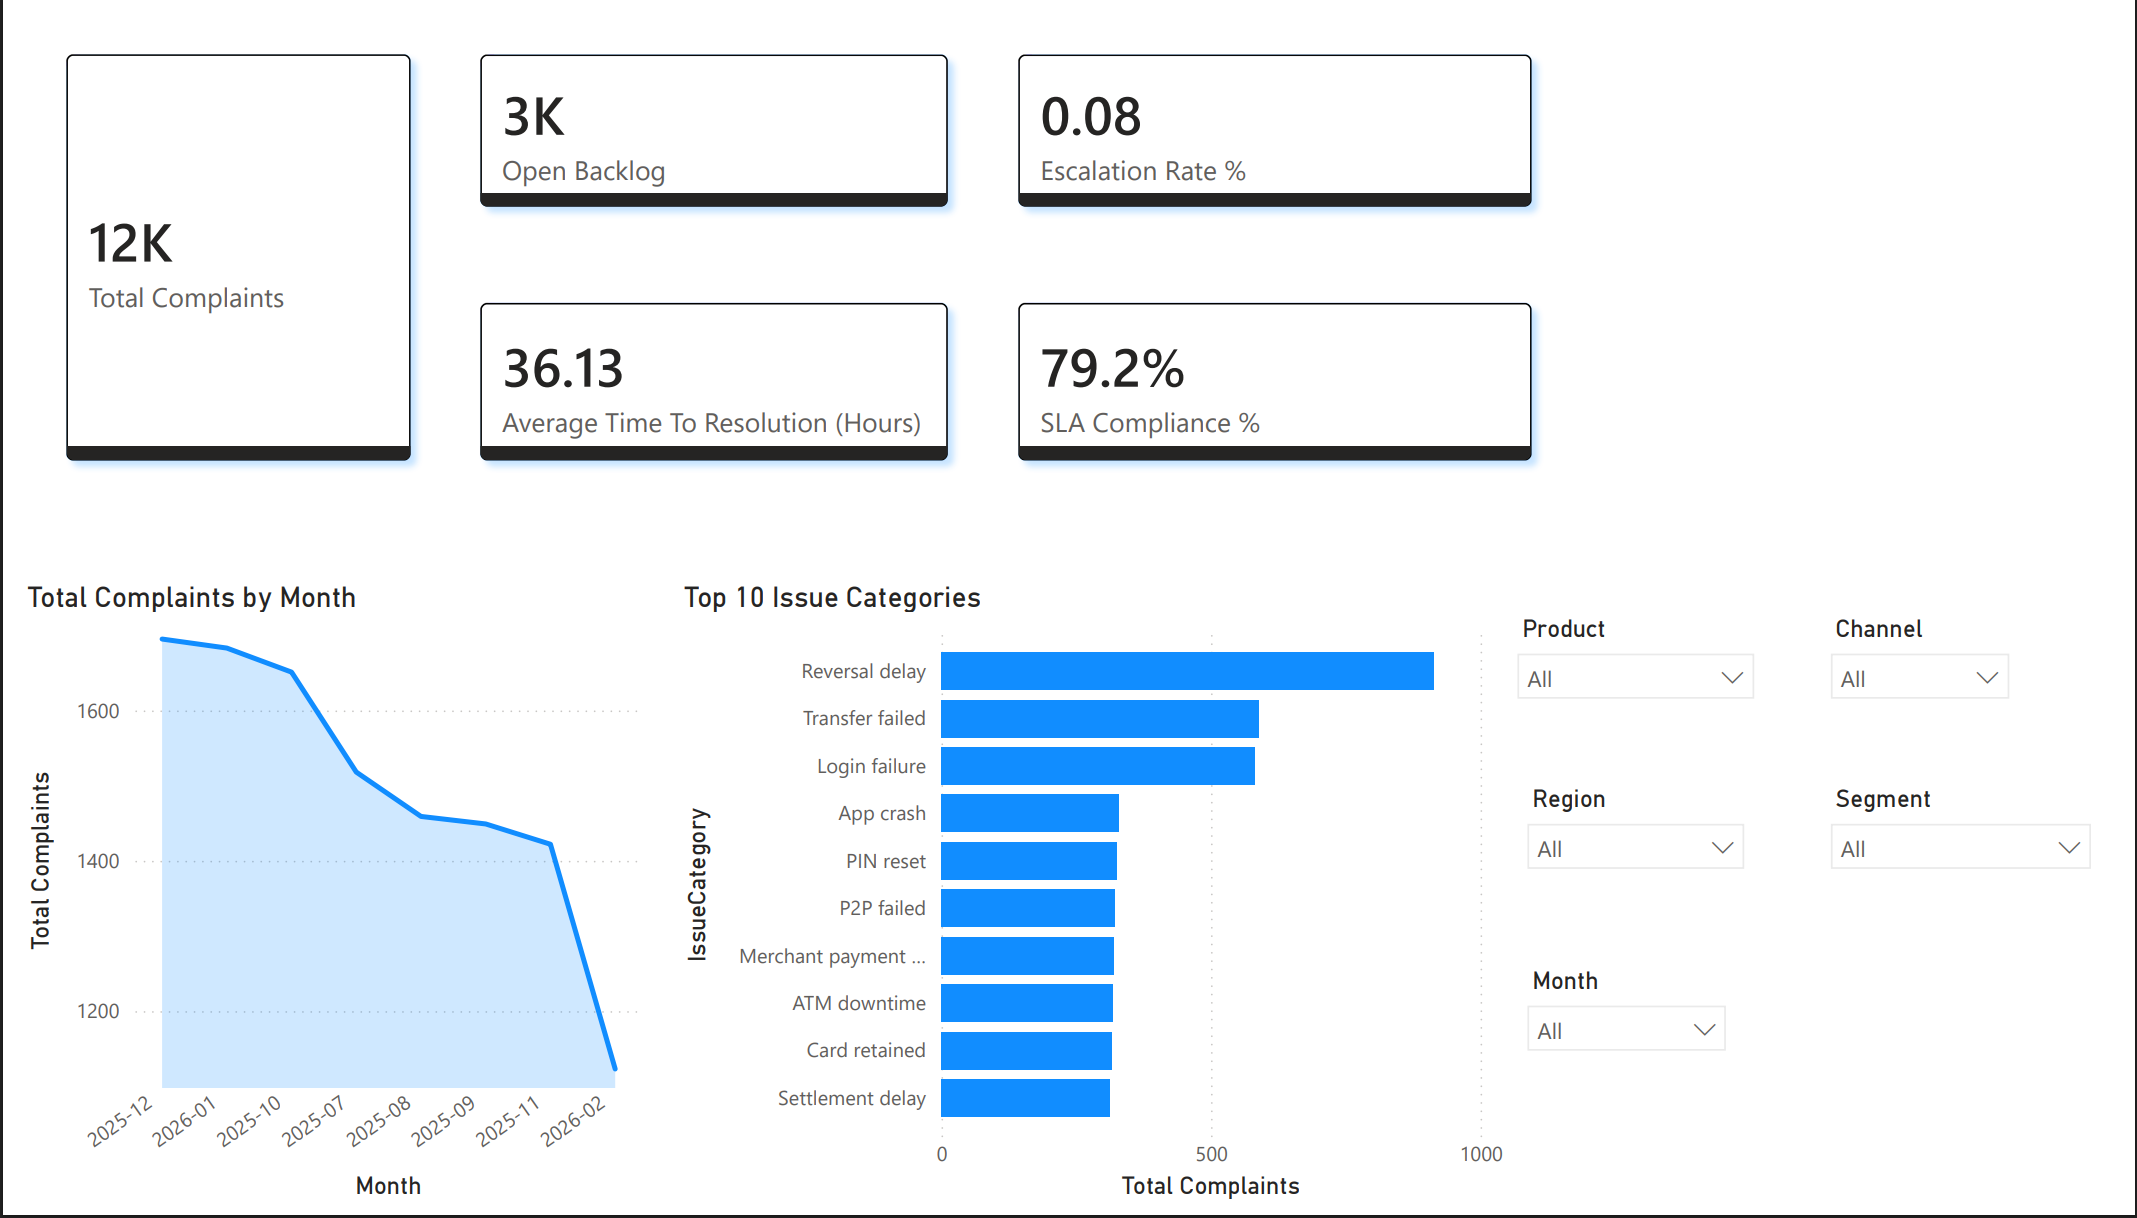

The page's visual inventory and layout, read from the dashboard file:
{"tool":"powerbi","page":{"name":"Executive Overview","canvas":[1280,720],"ordinal":0},"visuals":[{"type":"cardVisual","title":"Total Complaints","fields":{"Data":["Fact_Complaints.Total Complaints"]},"box":[10,0,264.2,301.7],"z":0},{"type":"cardVisual","title":"Open Backlog","fields":{"Data":["Fact_Complaints.Open Backlog"]},"box":[257.5,0,338.3,149.2],"z":1000},{"type":"cardVisual","title":"SLA Compliance%","fields":{"Data":["Fact_Complaints.SLA Compliance %"]},"box":[580.8,149.2,365.8,152.5],"z":2000},{"type":"cardVisual","title":"Total Complaints","fields":{"Data":["Fact_Complaints.Avg TTR Hours"]},"box":[257.5,149.2,338.3,152.5],"z":3000},{"type":"cardVisual","title":"Total Complaints","fields":{"Data":["Fact_Complaints.Escalation Rate %"]},"box":[580.8,0,365.8,149.2],"z":4000},{"type":"lineChart","fields":{"Y":["Fact_Complaints.Total Complaints"],"Category":["Dim_Date.Month"]},"box":[10,344.2,378.3,375.8],"z":5000},{"type":"clusteredBarChart","title":"Top 10 Issue Categories","fields":{"Category":["Fact_Complaints.IssueCategory"],"Y":["Fact_Complaints.Total Complaints"]},"box":[404.2,344.2,500.8,375.8],"z":6000},{"type":"slicer","fields":{"Values":["Dim_Date.Month"]},"box":[905,570.8,139.2,78.3],"z":7000},{"type":"slicer","fields":{"Values":["Fact_Complaints.Channel"]},"box":[1086.7,360,126.7,69.2],"z":8000},{"type":"slicer","fields":{"Values":["Fact_Complaints.Product"]},"box":[899.2,360,161.7,101.7],"z":9000},{"type":"slicer","fields":{"Values":["Fact_Complaints.CustomerSegment"]},"box":[1086.7,461.7,175.8,112.5],"z":10000},{"type":"slicer","fields":{"Values":["Fact_Complaints.Region"]},"box":[905,461.7,150,85.8],"z":11000}]}

Visuals, with their boxes in screenshot pixels (x1, y1, x2, y2), scaled from the page's 1280x720 canvas onto the 2137x1218 screenshot:
"Total Complaints" cardVisual: (left=17, top=0, right=458, bottom=510)
"Open Backlog" cardVisual: (left=430, top=0, right=995, bottom=252)
"SLA Compliance%" cardVisual: (left=970, top=252, right=1580, bottom=510)
"Total Complaints" cardVisual: (left=430, top=252, right=995, bottom=510)
"Total Complaints" cardVisual: (left=970, top=0, right=1580, bottom=252)
lineChart - Fact_Complaints.Total Complaints x Dim_Date.Month: (left=17, top=582, right=648, bottom=1217)
"Top 10 Issue Categories" clusteredBarChart: (left=675, top=582, right=1511, bottom=1217)
slicer - Dim_Date.Month: (left=1511, top=966, right=1743, bottom=1098)
slicer - Fact_Complaints.Channel: (left=1814, top=609, right=2026, bottom=726)
slicer - Fact_Complaints.Product: (left=1501, top=609, right=1771, bottom=781)
slicer - Fact_Complaints.CustomerSegment: (left=1814, top=781, right=2108, bottom=971)
slicer - Fact_Complaints.Region: (left=1511, top=781, right=1761, bottom=926)
